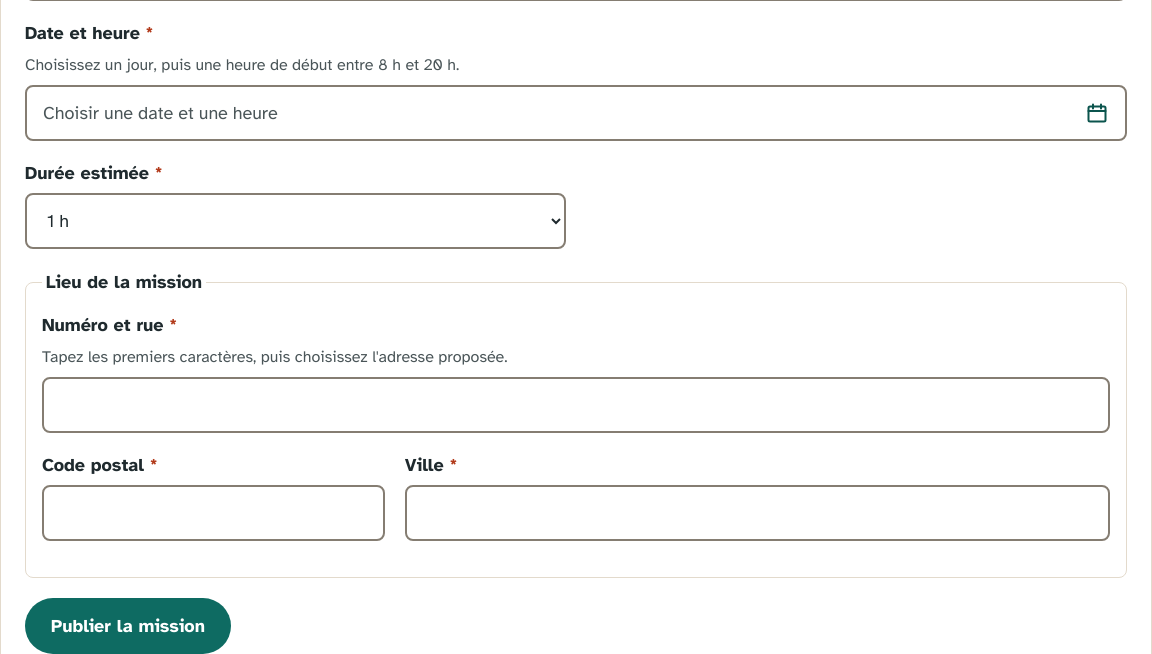
Test: AddressAutocomplete › locates the mission from the chosen address, without any button to verify it
This screenshot has width=1152, height=654.
(page scrolled)
In the dropdown with id "street": (576,405) [42,377,1110,433], type "12 rue de lens"
Wait 300 ms
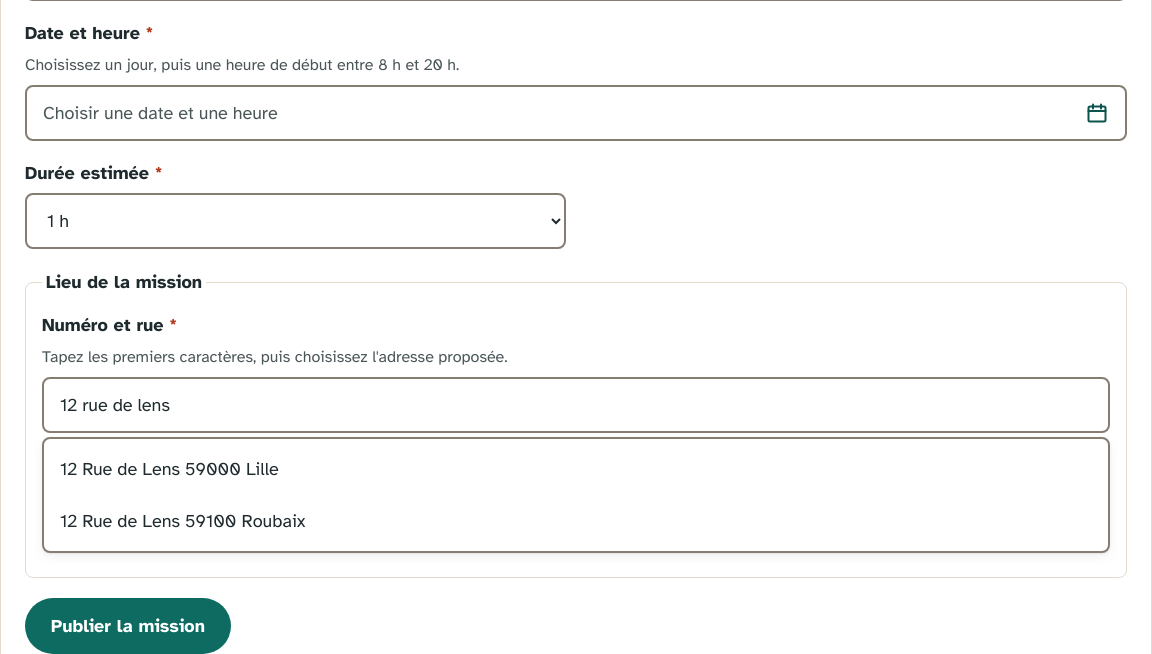
Press the mouse on the option "12 Rue de Lens 59000 Lille": (169,469) [60,458,279,480]
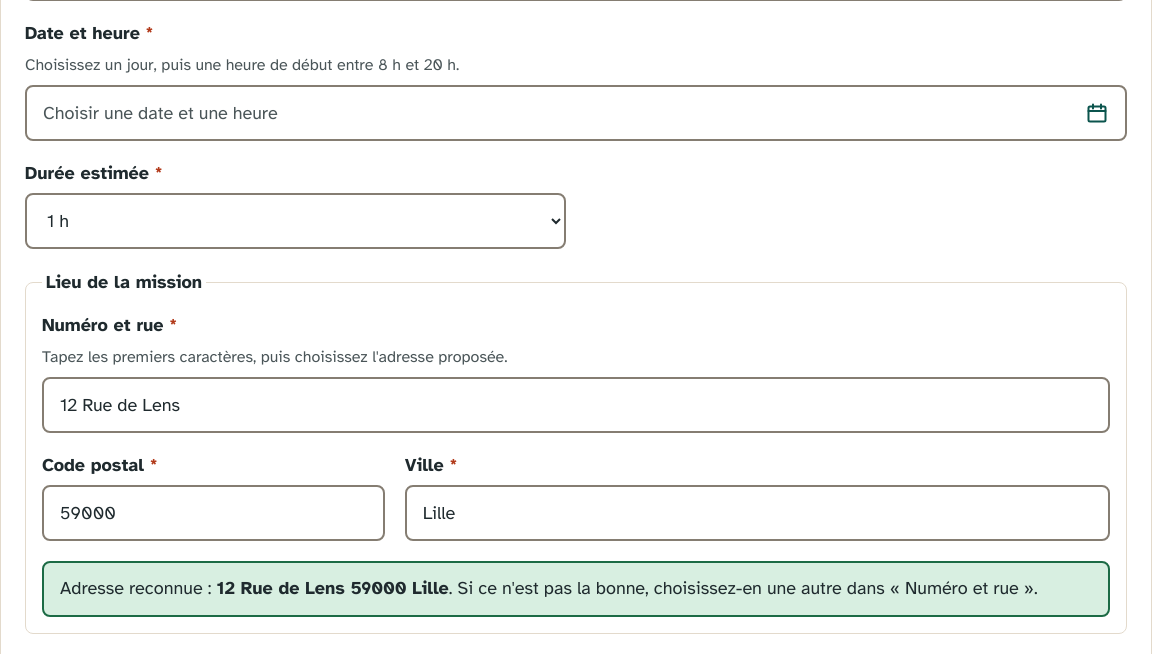
Expected: the field labelled "Code postal *" holds "59000", [42,485,385,541]
Expected: the field with id "city" holds "Lille", [405,485,1110,541]
Expected: the text "Adresse reconnue : 12 Rue de Lens 59000 Lille" is shown, [42,561,1110,617]
